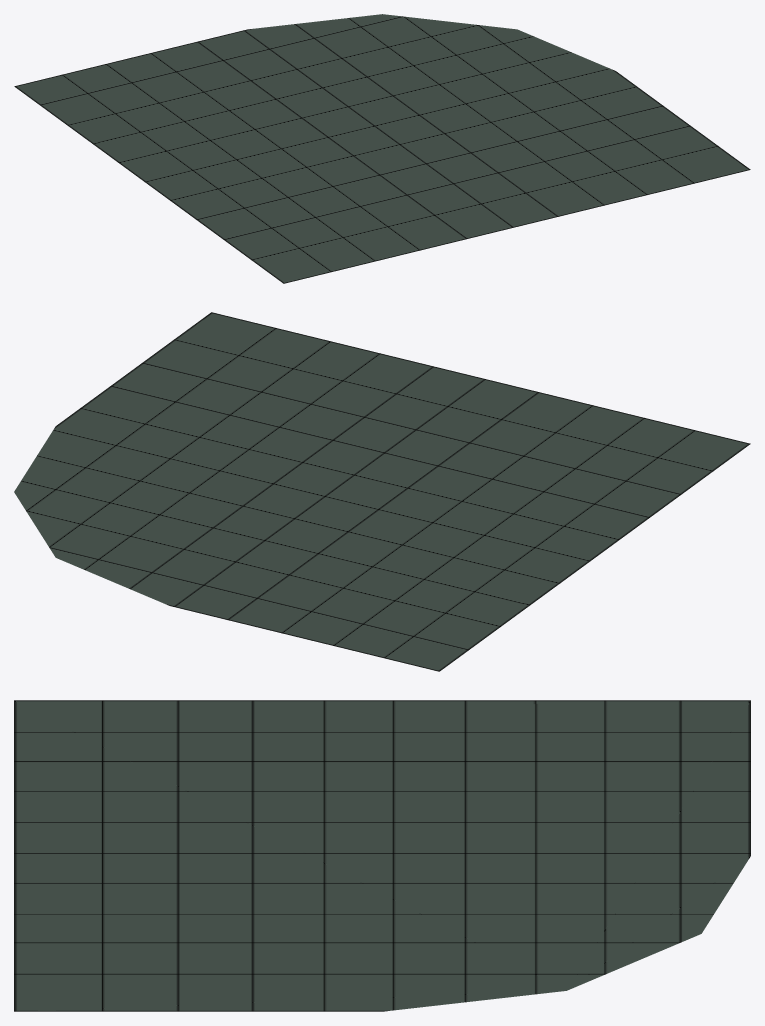
The model's file is Curva3.fbx.
The picture shows the model from 3 angles, top to bottom: view 1: azimuth 30°, elevation 25°; view 2: azimuth 150°, elevation 25°; view 3: azimuth 270°, elevation 25°; orthographic projection. The views are drawn at different scales.
Visible parts, largest first — view 1: pCube11; view 2: pCube11; view 3: pCube11.
Boxes of the visible parts, box(x1,y1,x2,y2) form: pCube11: box(14, 14, 750, 283); pCube11: box(14, 312, 750, 671); pCube11: box(14, 700, 750, 1011).
Size of the model in its own units: 1 by 0 by 1.
1 material, 1 textured.
